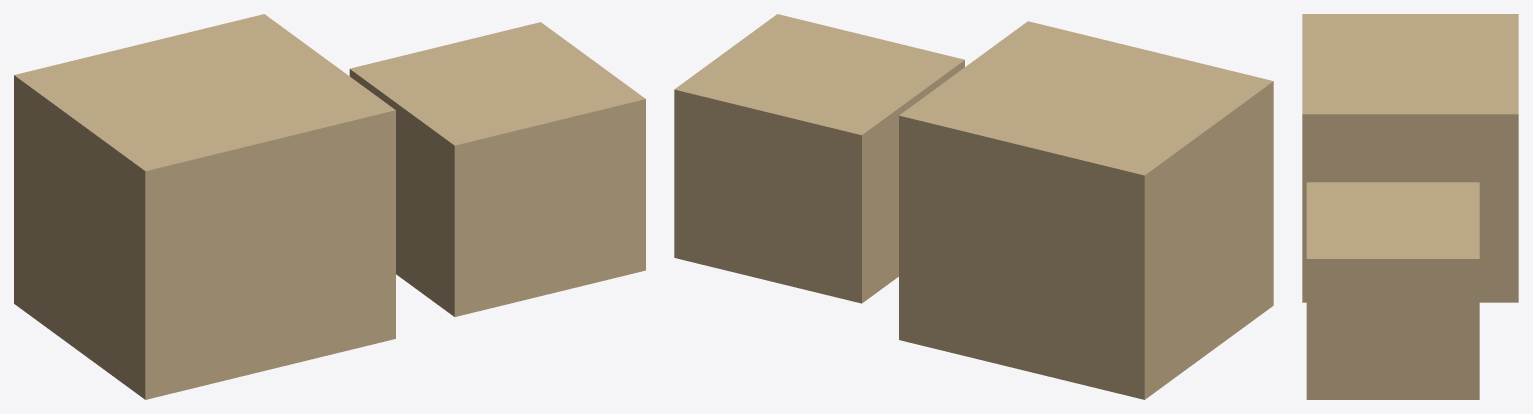
Rendered from PRP_HOUSE_006_package_box_set.glb.
3 views of the same model, side by side, from view 1: azimuth 30°, elevation 25°; view 2: azimuth 150°, elevation 25°; view 3: azimuth 270°, elevation 25° (orthographic). The views are drawn at different scales.
Visible parts, largest first — view 1: Part_01, Part_07, Part_04, Part_02, Part_10, Part_08; view 2: Part_00, Part_06, Part_04, Part_02, Part_10, Part_08; view 3: Part_09, Part_04, Part_03, Part_10.
Boxes of the visible parts, box(x1,y1,x2,y2) form: Part_01: box(145, 110, 395, 399); Part_07: box(454, 99, 645, 316); Part_04: box(14, 14, 395, 171); Part_02: box(14, 75, 145, 399); Part_10: box(350, 22, 645, 145); Part_08: box(349, 69, 454, 316); Part_00: box(899, 115, 1144, 399); Part_06: box(674, 89, 861, 303); Part_04: box(899, 21, 1273, 175); Part_02: box(1144, 81, 1273, 399); Part_10: box(674, 14, 964, 135); Part_08: box(862, 60, 964, 303); Part_09: box(1306, 259, 1479, 399); Part_04: box(1302, 14, 1518, 114); Part_03: box(1302, 114, 1518, 302); Part_10: box(1306, 182, 1479, 258).
Bounding box in the file's own units: 1.1 × 0.48 × 0.5.
